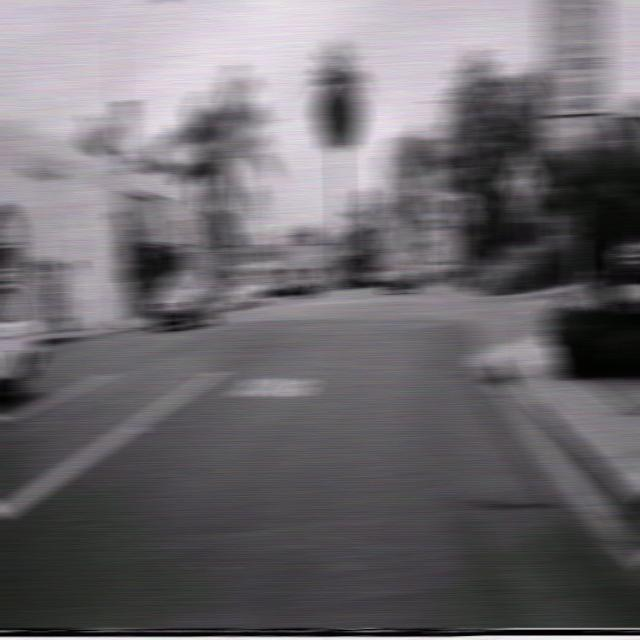pedestrianCrossing: (501, 146, 543, 213), (454, 190, 476, 215)
